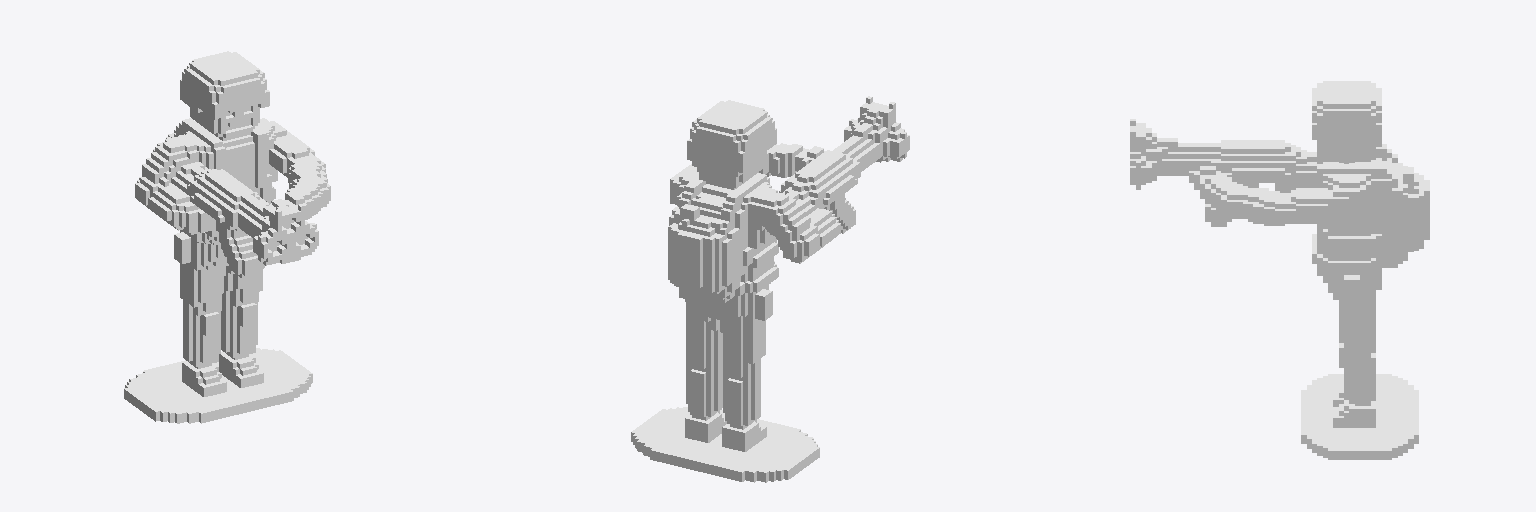
File: gun_soldier_LVL3_2.0.obj
3 renders of one model, left to right at view 1: azimuth 30°, elevation 25°; view 2: azimuth 150°, elevation 25°; view 3: azimuth 270°, elevation 25°, orthographic.
Parts seen in each view (by area): view 1: object 1; view 2: object 1; view 3: object 1.
Part boxes in pixels (bbox=[...]): object 1: bbox=[124, 51, 330, 423]; object 1: bbox=[631, 96, 909, 482]; object 1: bbox=[1130, 81, 1429, 459].
Bounding box in the file's own units: 3.5 × 6.8 × 5.6.